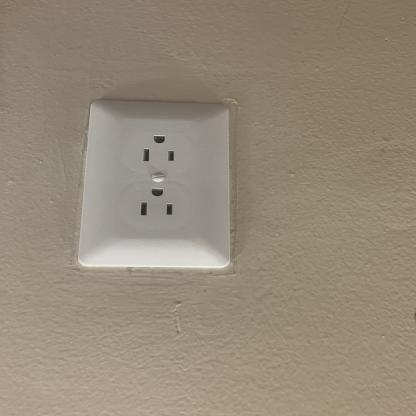OUTLET: (76, 99, 235, 269)
